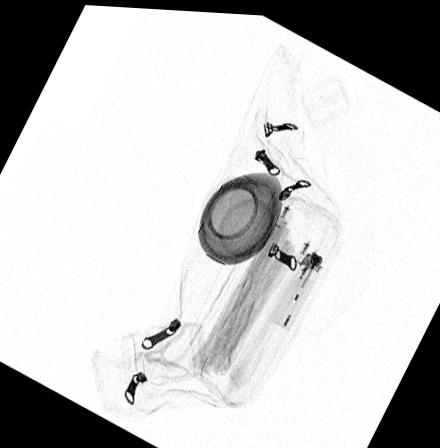Lighter: (269, 247, 325, 327)
